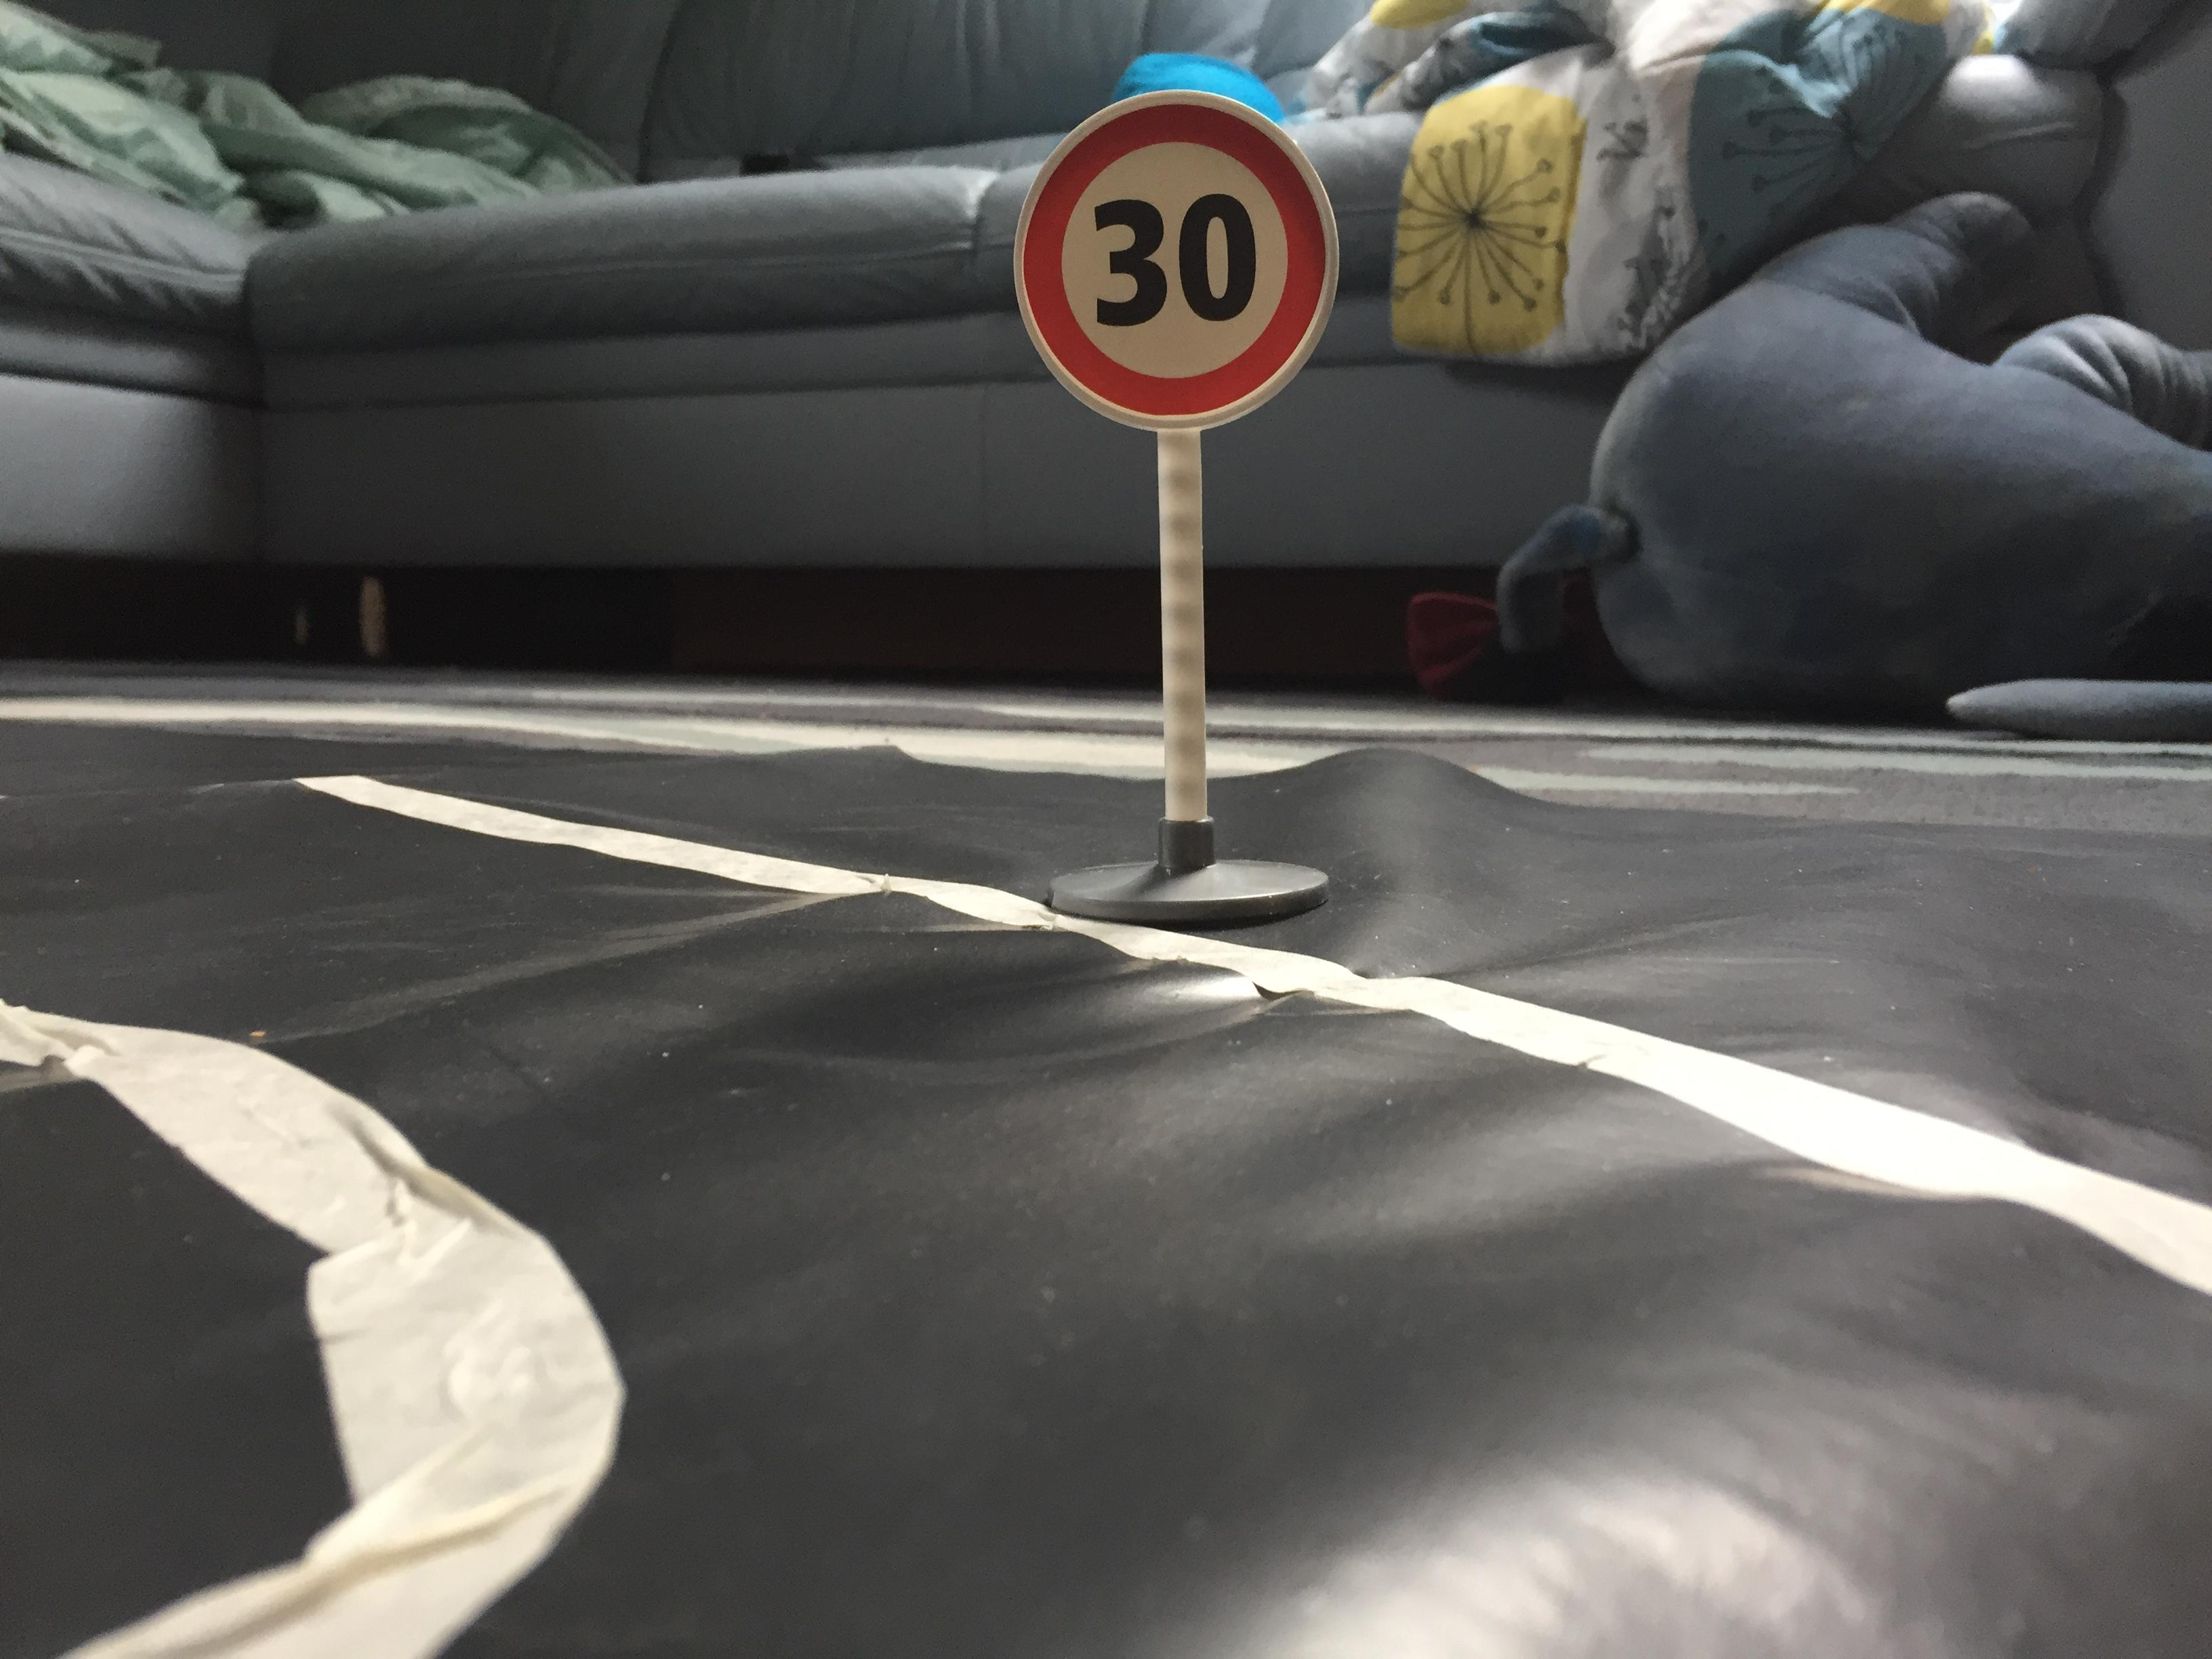speed: (1003, 77, 1348, 441)
